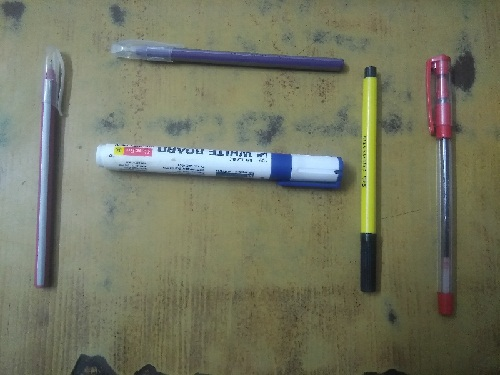pen: (415, 49, 464, 318), (92, 140, 346, 191), (27, 44, 67, 291), (109, 35, 346, 76), (356, 60, 385, 296)
